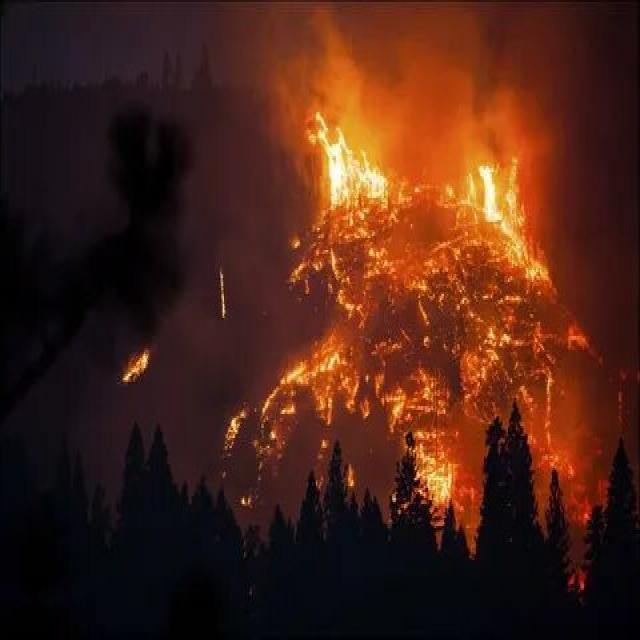Fire: (250, 84, 579, 528)
